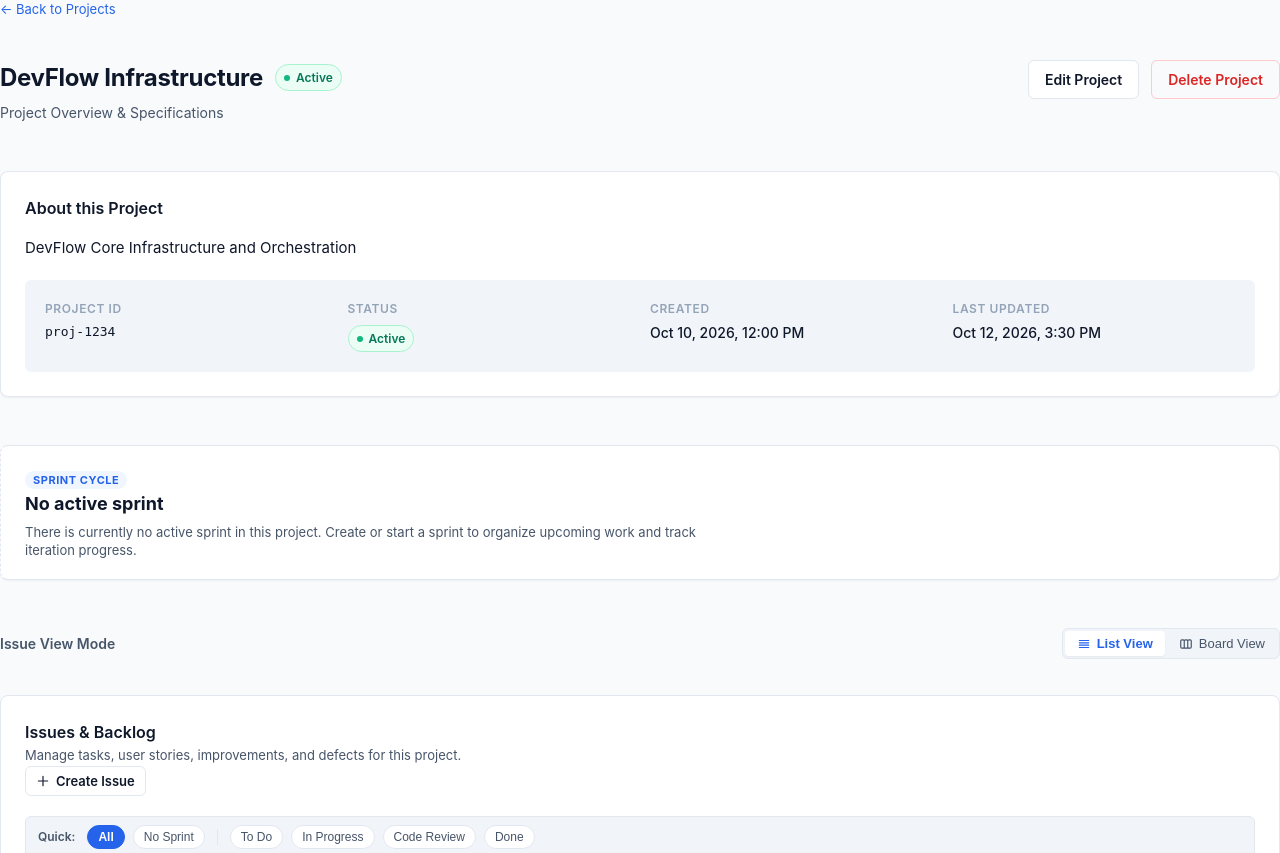
ProjectDetailsPage Component › opens edit modal and updates project details successfully
Expected: the heading "DevFlow Infrastructure" is shown, [0,60,263,96]
Click the button "Edit Project" at (1084, 79), box [1028,60,1139,98]
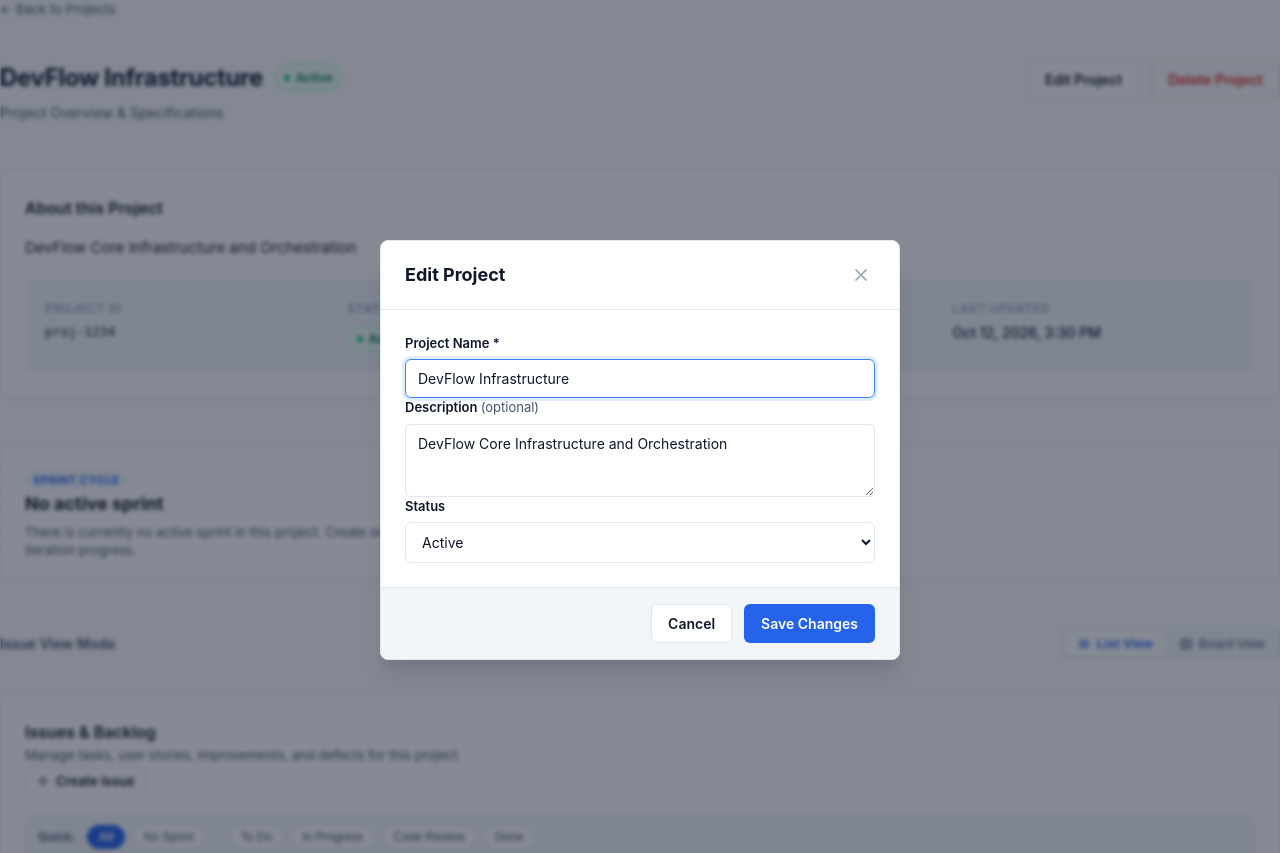
Now the heading "Edit Project" is shown, box [405,261,505,288]
Now the field labelled "Project Name *" holds "DevFlow Infrastructure"
Replace the text in the field labelled "Project Name *" with "DevFlow Infrastructure v2" at (640, 379), box [405,359,875,398]
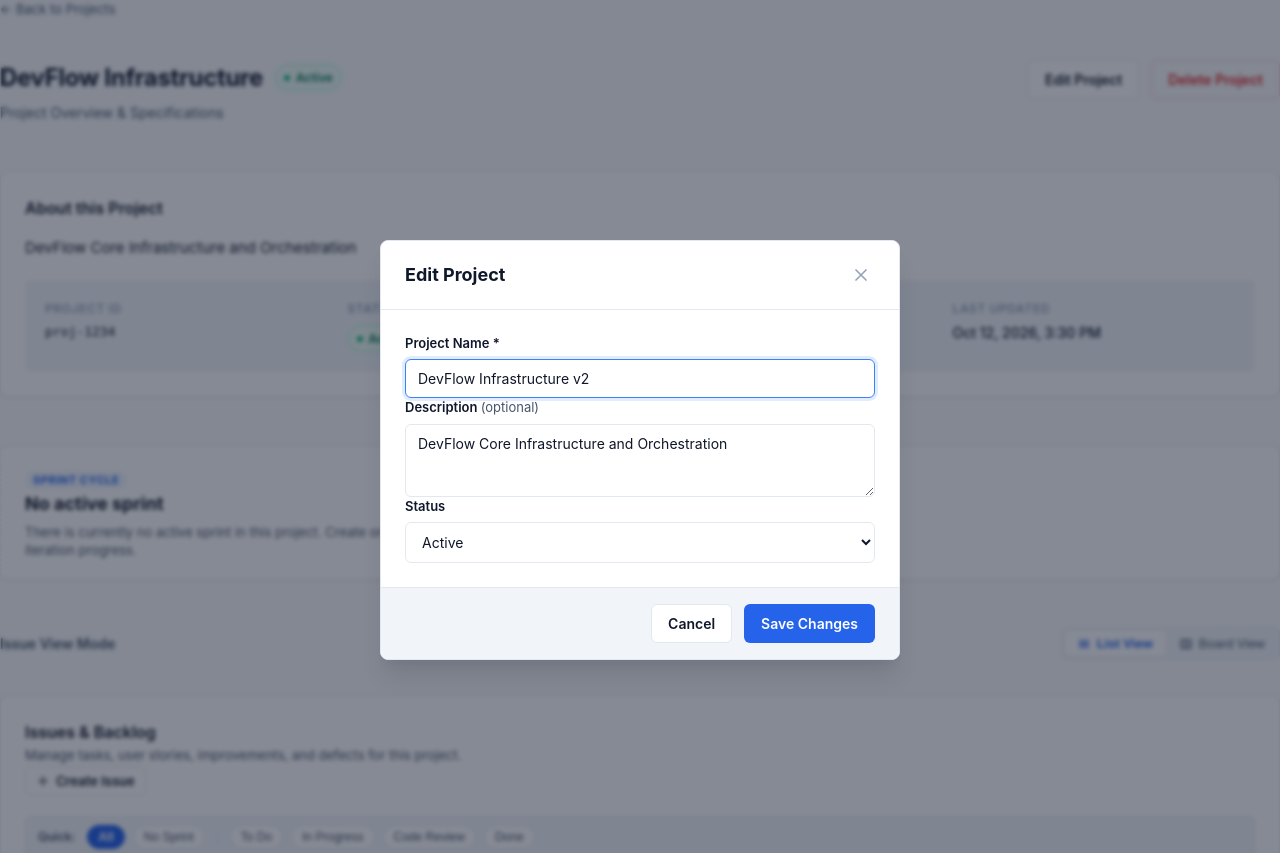
Replace the text in the text box labelled "Description (optional)" with "Updated infrastructure scope" at (640, 460), box [405,424,875,497]
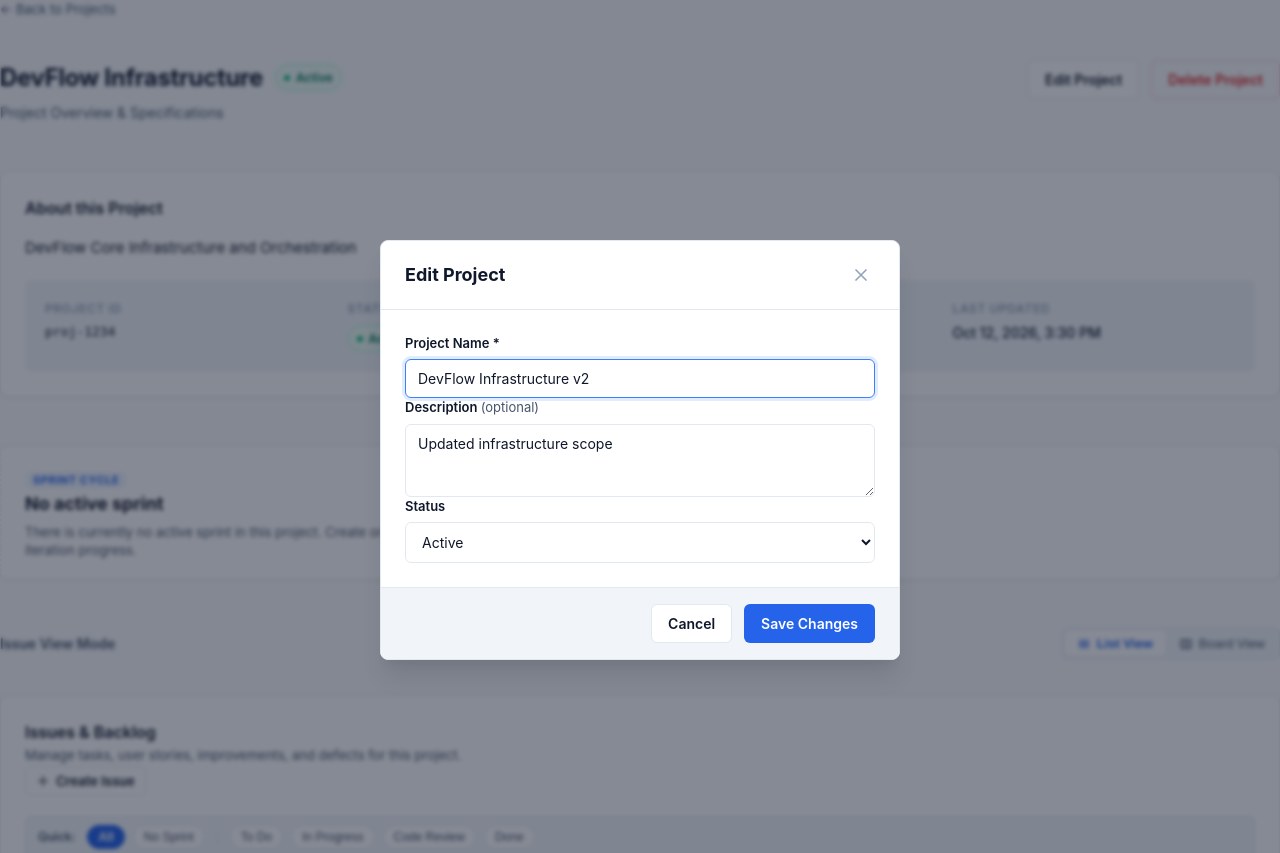
Click the button "Save Changes" at (810, 624), box [744,604,875,643]
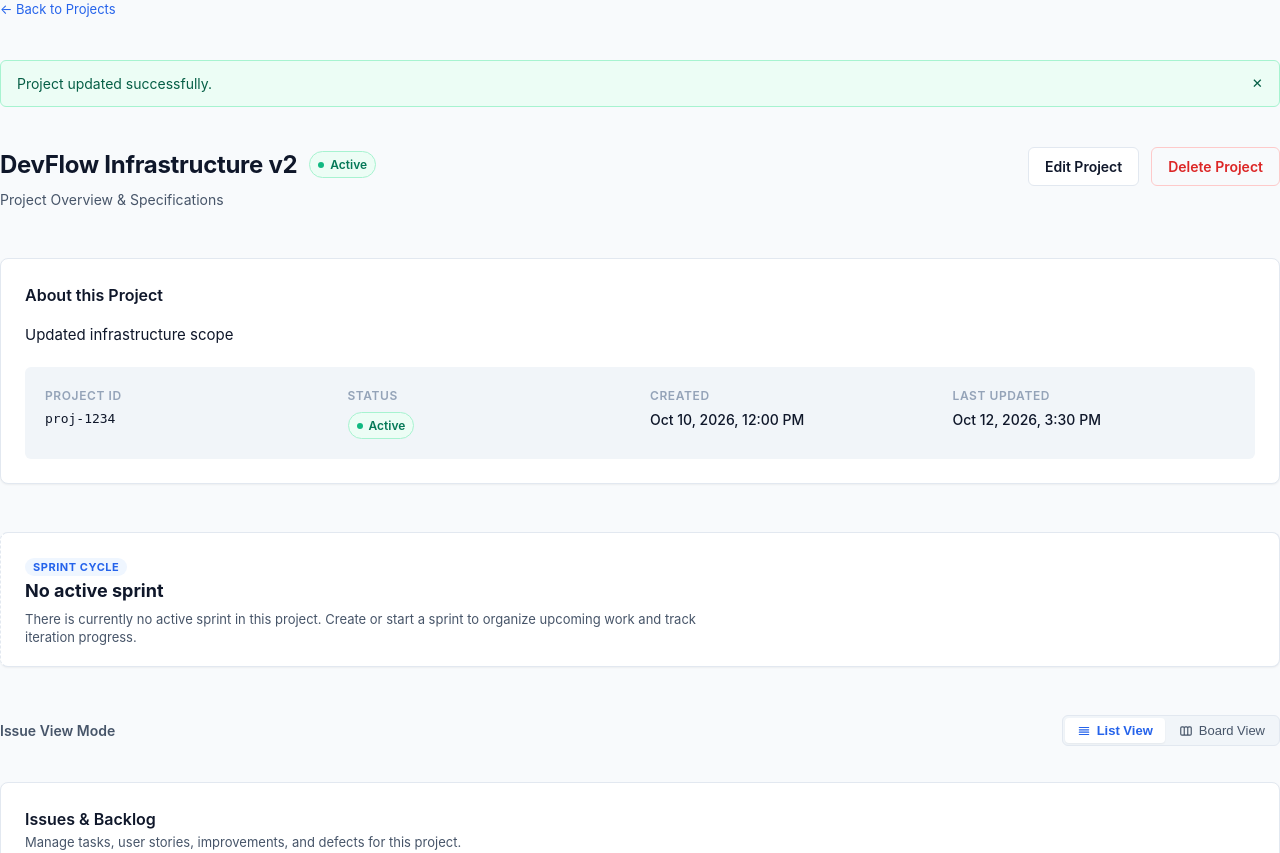
Now the text "Project updated successfully." is shown, box [17,72,212,94]
Now the heading "DevFlow Infrastructure v2" is shown, box [0,146,297,182]
